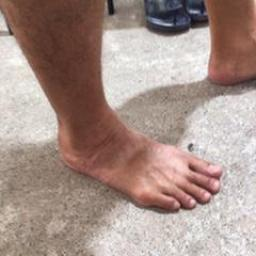Lateral View -Right Foot-: (45, 95, 231, 228)
